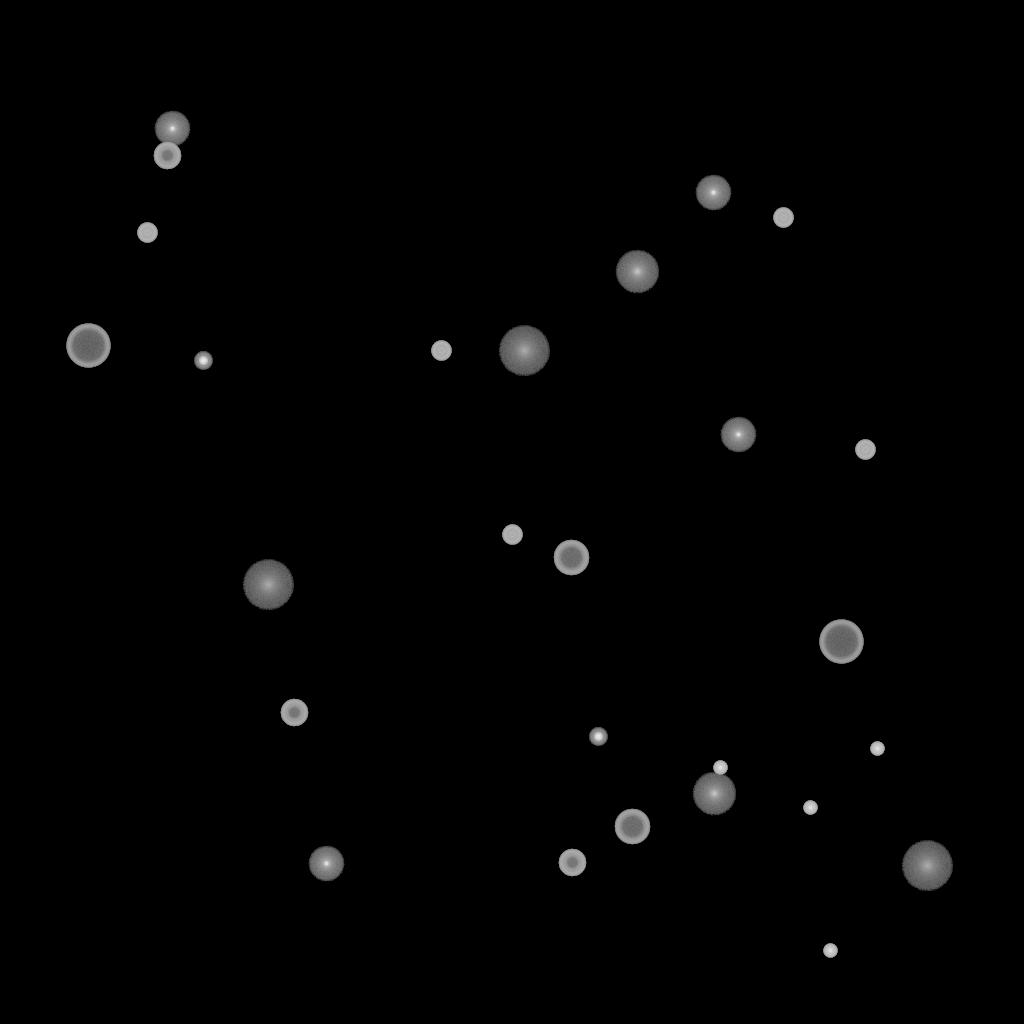depth:-20: (194, 352, 212, 370), (589, 728, 607, 746)
depth:-30: (870, 742, 884, 756), (823, 944, 837, 958), (803, 801, 817, 815), (713, 761, 727, 775)
depth:-40: (431, 341, 451, 361), (773, 208, 793, 228), (137, 223, 157, 243), (855, 440, 875, 460), (502, 525, 522, 545)
depth:-50: (280, 699, 308, 727), (558, 849, 586, 877), (153, 142, 181, 170)
depth:-60: (553, 540, 589, 576), (614, 809, 650, 845)
depth:-70: (819, 620, 863, 664), (66, 324, 110, 368)
depth:0: (695, 175, 731, 211), (154, 111, 190, 147), (720, 417, 756, 453), (308, 846, 344, 882)
depth:10: (615, 250, 659, 294), (692, 772, 736, 816)
depth:20: (498, 326, 550, 376), (901, 841, 953, 891), (242, 560, 294, 610)
